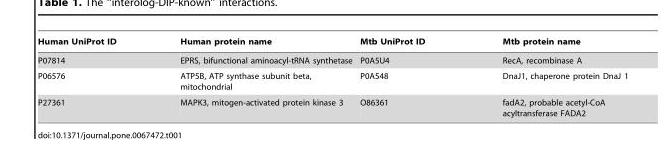table: (37, 36, 627, 117)
table column: (147, 36, 355, 117), (463, 36, 627, 117), (37, 36, 147, 117), (355, 36, 463, 117)
table column header: (37, 36, 627, 50)
table row: (37, 67, 627, 94), (37, 94, 627, 117), (37, 50, 627, 67), (37, 36, 627, 50)
